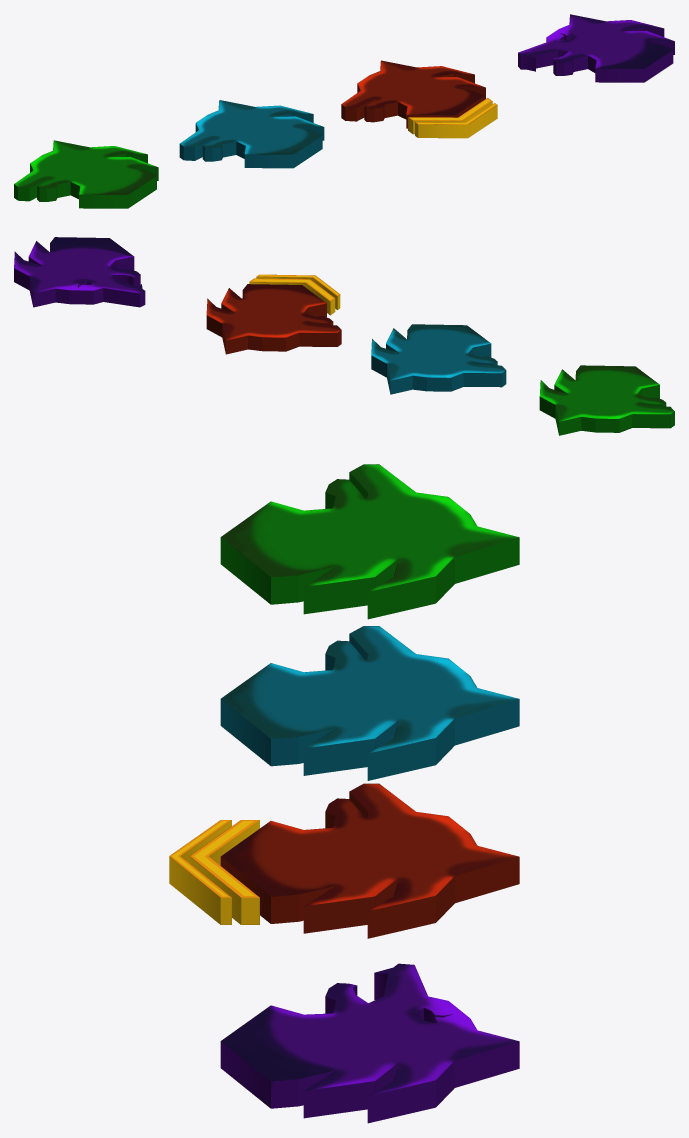
File: enemy_and_boss.FBX
The picture shows the model from 3 angles, top to bottom: view 1: azimuth 30°, elevation 25°; view 2: azimuth 150°, elevation 25°; view 3: azimuth 270°, elevation 25°; orthographic projection. The views are drawn at different scales.
Parts seen in each view (by area): view 1: Line009, Object001, Object002, Line008, Box020, Box019; view 2: Line009, Line008, Object002, Object001, Box019, Box020; view 3: Line009, Object001, Object002, Line008, Box019, Box020.
Boxes of the visible parts, x1,y1,x2,y2 form: Line009: [518, 14, 674, 82]; Object001: [179, 100, 324, 168]; Object002: [14, 140, 158, 208]; Line008: [341, 60, 485, 128]; Box020: [415, 103, 497, 138]; Box019: [408, 98, 492, 134]; Line009: [14, 237, 145, 307]; Line008: [206, 284, 341, 354]; Object002: [539, 365, 674, 435]; Object001: [371, 324, 506, 394]; Box019: [249, 278, 335, 315]; Box020: [256, 274, 340, 309]; Line009: [220, 963, 519, 1123]; Object001: [220, 626, 519, 780]; Object002: [220, 464, 519, 619]; Line008: [220, 783, 519, 938]; Box019: [189, 820, 259, 924]; Box020: [169, 820, 231, 924].
Size of the model in its own units: 235 by 4.72 by 55.01.
6 materials, 6 textured.
